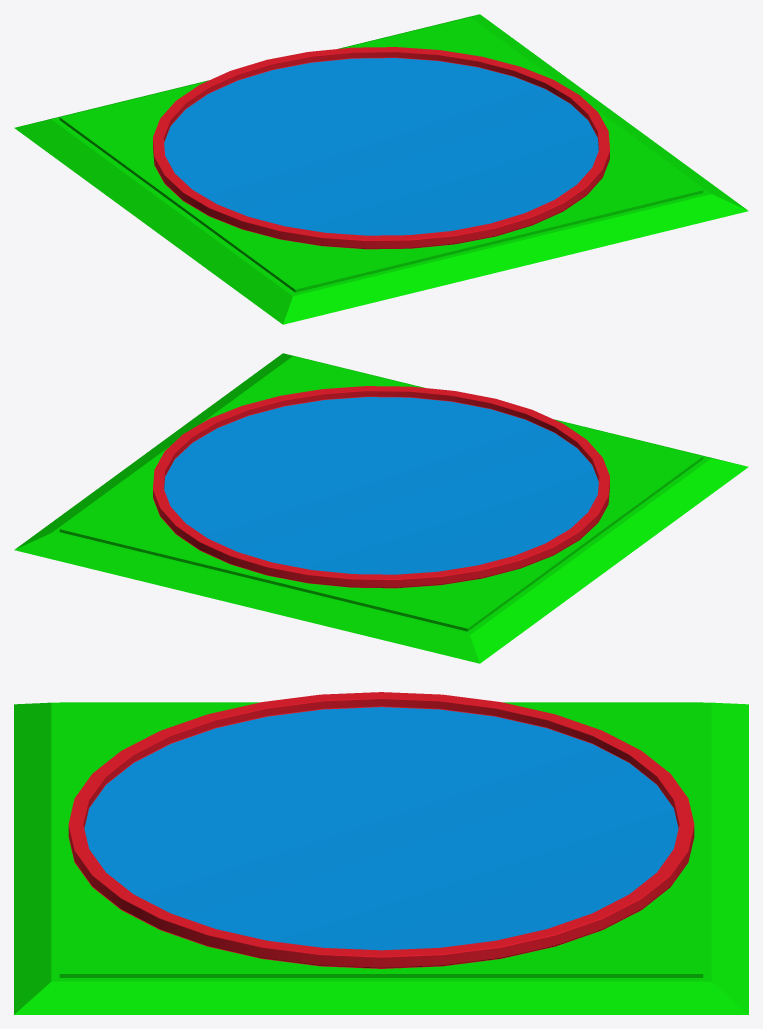
The model's file is Teleport Pad.fbx.
3 views of the same model, one above another, from view 1: azimuth 30°, elevation 25°; view 2: azimuth 150°, elevation 25°; view 3: azimuth 270°, elevation 25° (orthographic). The views are drawn at different scales.
Visible parts, largest first — view 1: Cylinder, Cube; view 2: Cylinder, Cube; view 3: Cylinder, Cube.
Part boxes in pixels (left/top/right/bottom): Cylinder: left=153, top=47, right=609, bottom=249; Cube: left=14, top=14, right=748, bottom=324; Cylinder: left=153, top=386, right=609, bottom=588; Cube: left=14, top=353, right=748, bottom=663; Cylinder: left=68, top=692, right=694, bottom=968; Cube: left=14, top=702, right=748, bottom=1014.
Size of the model in its own units: 223 by 11.8 by 223.
